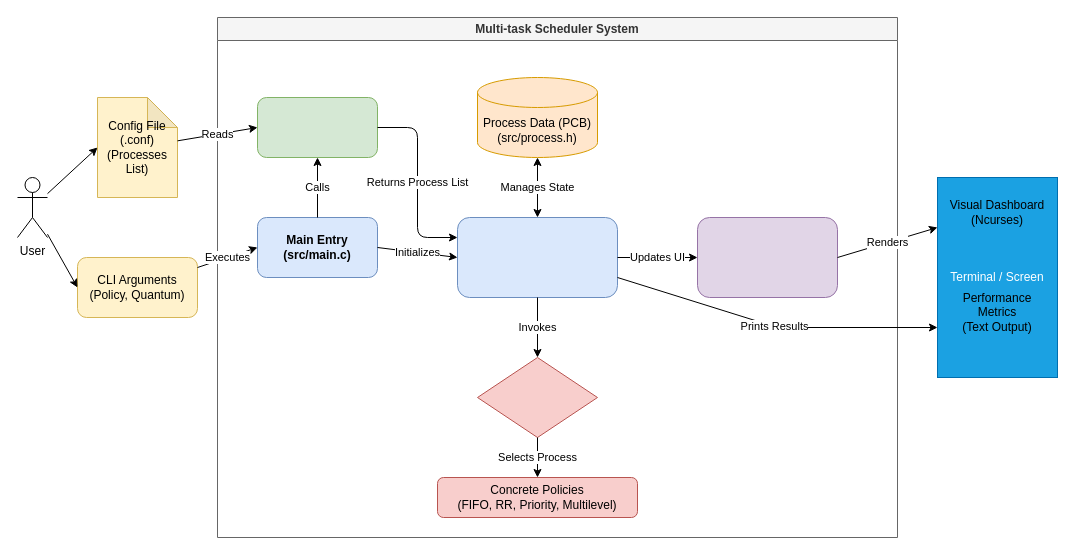
The diagram is 1075 pixels wide and 555 high, and some of its shapes have lost their labels. The shapes that lost their labels are listed below. From the top down, each one's centre as x and y in pixels, then its label:
the point at 317,127: Parser Module (src/parser.c)
the point at 537,257: Scheduler Core (src/scheduler.c)
the point at 767,257: Display Engine (src/display.c)
the point at 537,397: Policy Interface (Function Pointers)
